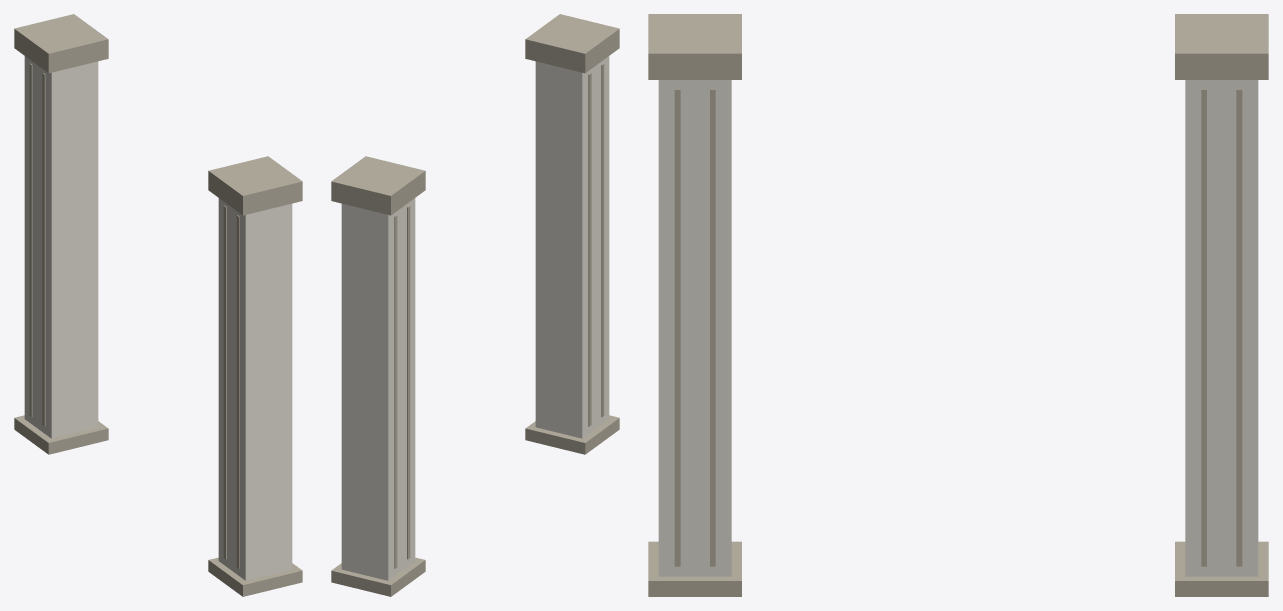
The model's file is columns.glb.
3 renders of one model, left to right at view 1: azimuth 30°, elevation 25°; view 2: azimuth 150°, elevation 25°; view 3: azimuth 270°, elevation 25°, orthographic. The views are drawn at different scales.
Parts seen in each view (by area): view 1: columns; view 2: columns; view 3: columns.
Boxes of the visible parts, <box> form: columns: <box>14,14,302,596</box>; columns: <box>331,14,619,596</box>; columns: <box>648,14,1268,596</box>.
Size of the model in its own units: 0.32 by 2.05 by 2.12.
1 material, 1 textured.
